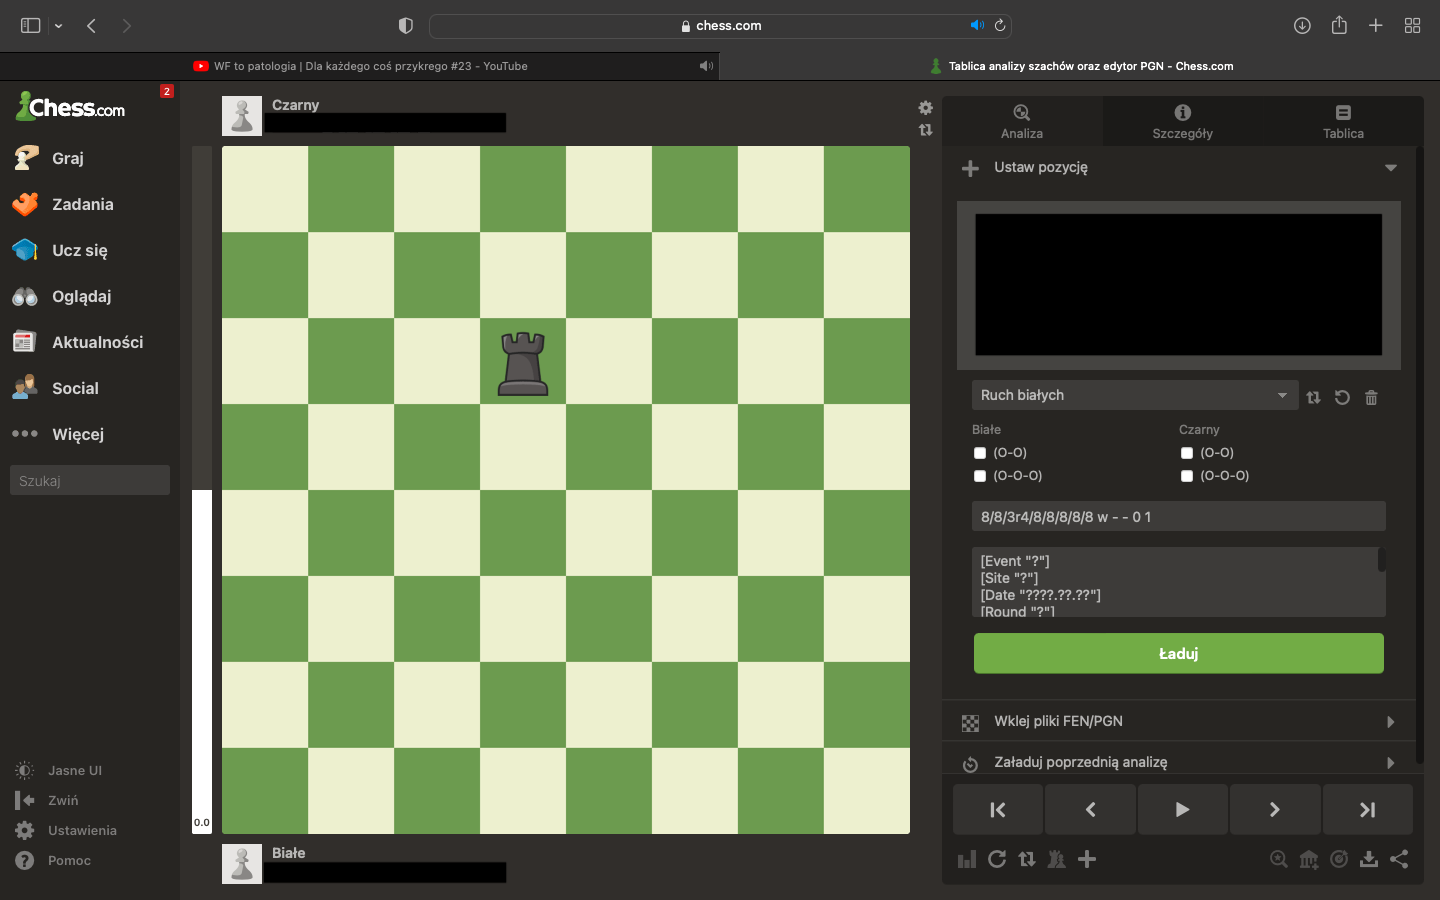black_rook: (497, 331, 550, 398)
